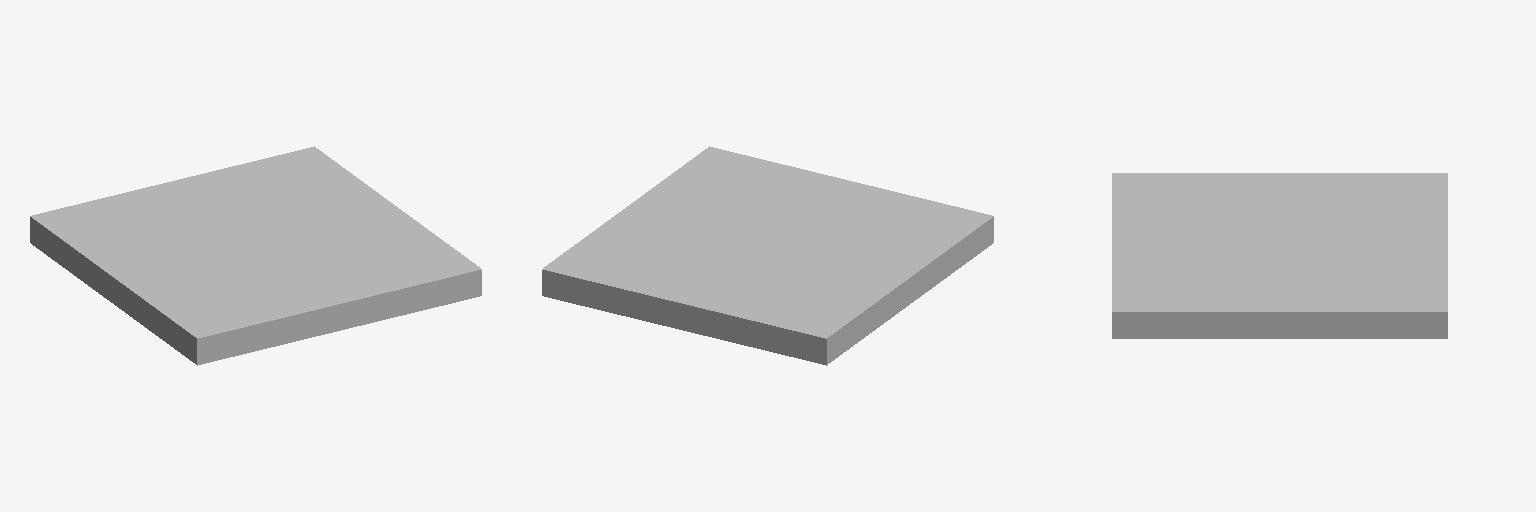
Rendered from Room2HitboxData.obj.
3 views of the same model, side by side, from view 1: azimuth 30°, elevation 25°; view 2: azimuth 150°, elevation 25°; view 3: azimuth 270°, elevation 25° (orthographic).
Parts seen in each view (by area): view 1: BigBox_Cube.001; view 2: BigBox_Cube.001; view 3: BigBox_Cube.001.
Part boxes in pixels (x1,y1,x2,y2): BigBox_Cube.001: (30, 146, 481, 365); BigBox_Cube.001: (542, 146, 993, 365); BigBox_Cube.001: (1112, 173, 1447, 338).
Size of the model in its own units: 216 by 19.32 by 220.